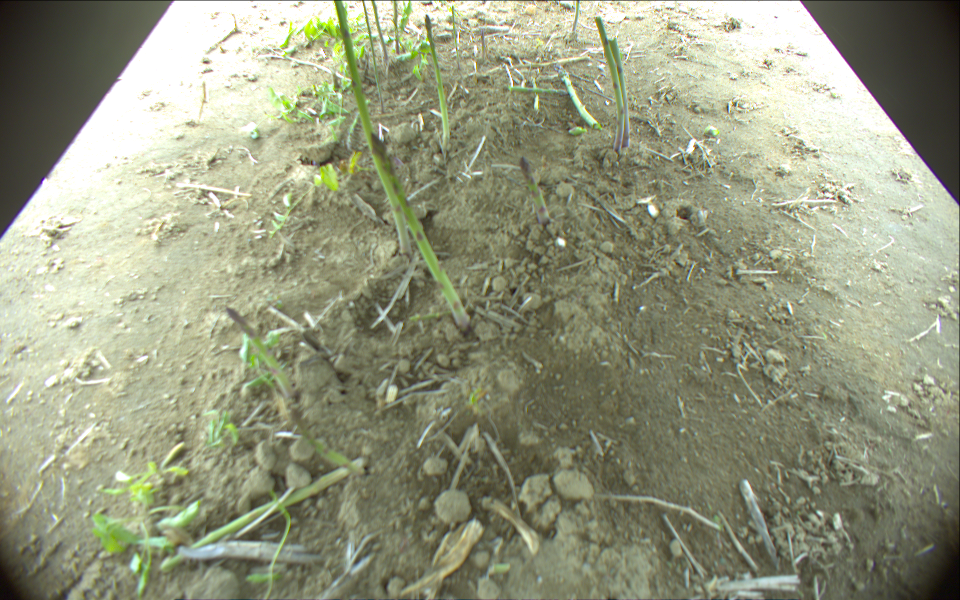aspa: (156, 463, 365, 571), (333, 1, 413, 257), (369, 130, 470, 332), (225, 307, 304, 424), (596, 14, 626, 152), (424, 11, 453, 151), (551, 61, 600, 128), (363, 1, 389, 118), (275, 51, 350, 84), (520, 157, 550, 227), (610, 41, 629, 151), (370, 1, 392, 64), (506, 85, 573, 94), (393, 1, 400, 55), (573, 1, 580, 37)
